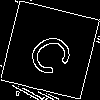C: (25, 25, 84, 80)
